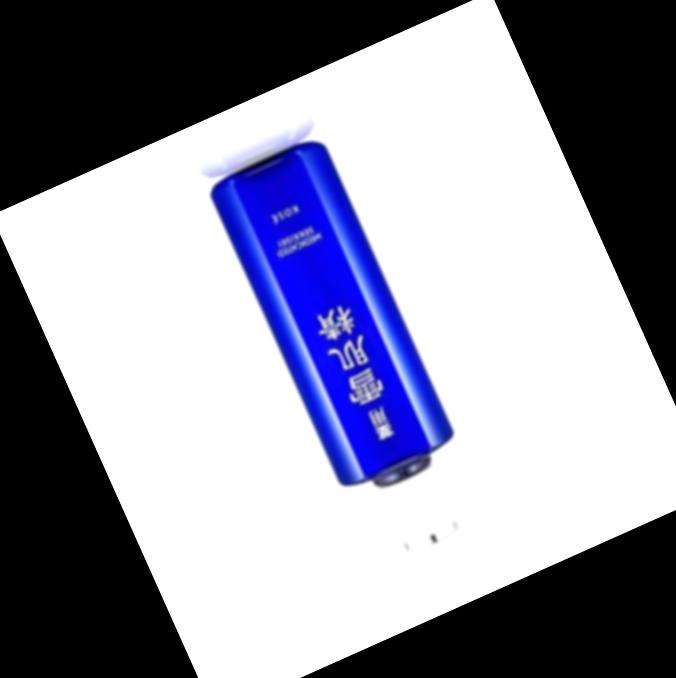cosmetic: (198, 131, 492, 568)
